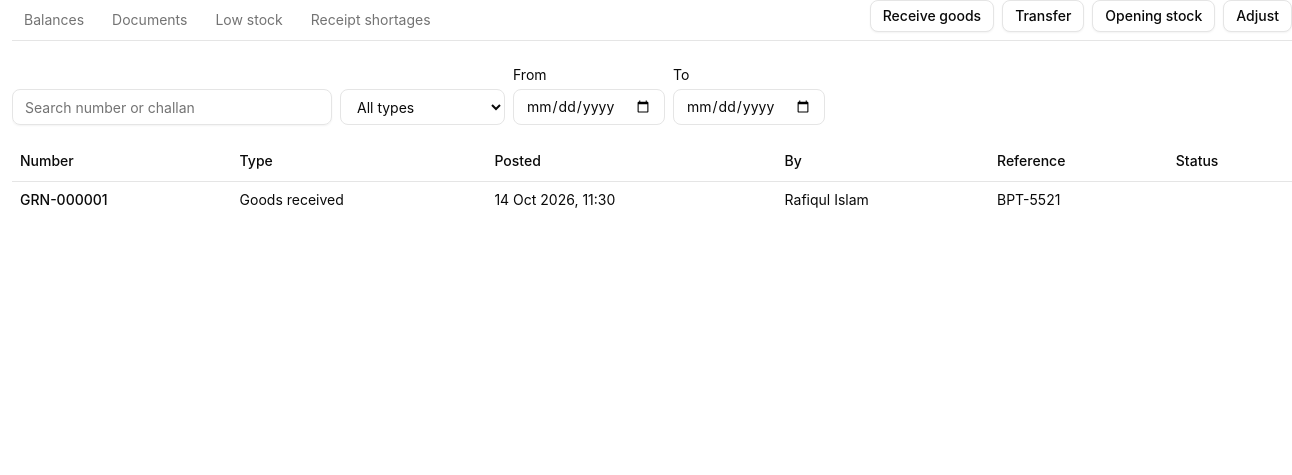
Test: documents › lists documents by type and date range and opens one
Select "Goods received" in the dropdown named "Type". click: (422, 107)
box: x1=340 y1=89 x2=505 y2=125
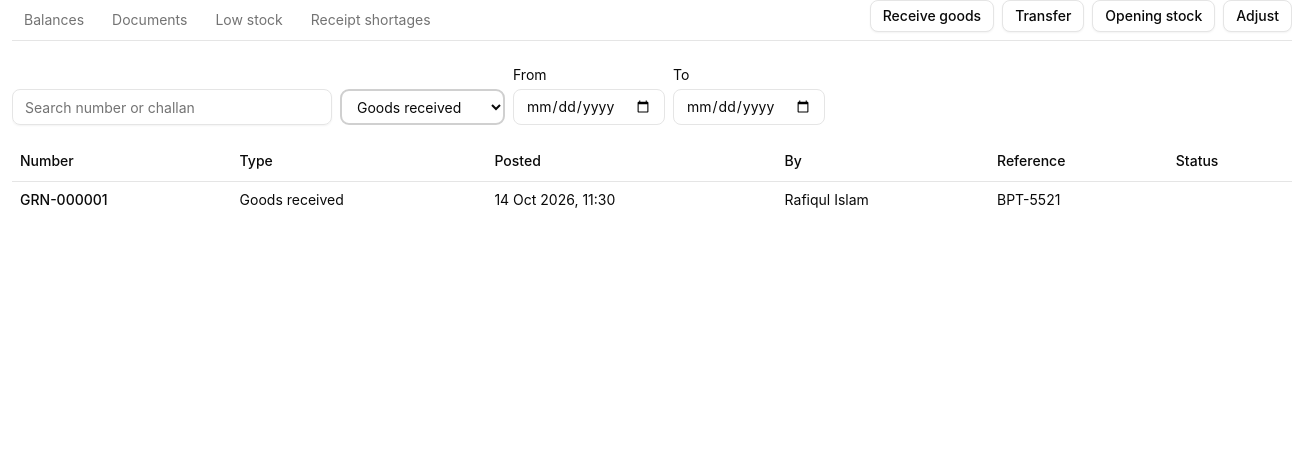
Type "2026-10-01" into the date field labelled "From". click: (589, 107)
box: x1=513 y1=89 x2=665 y2=125
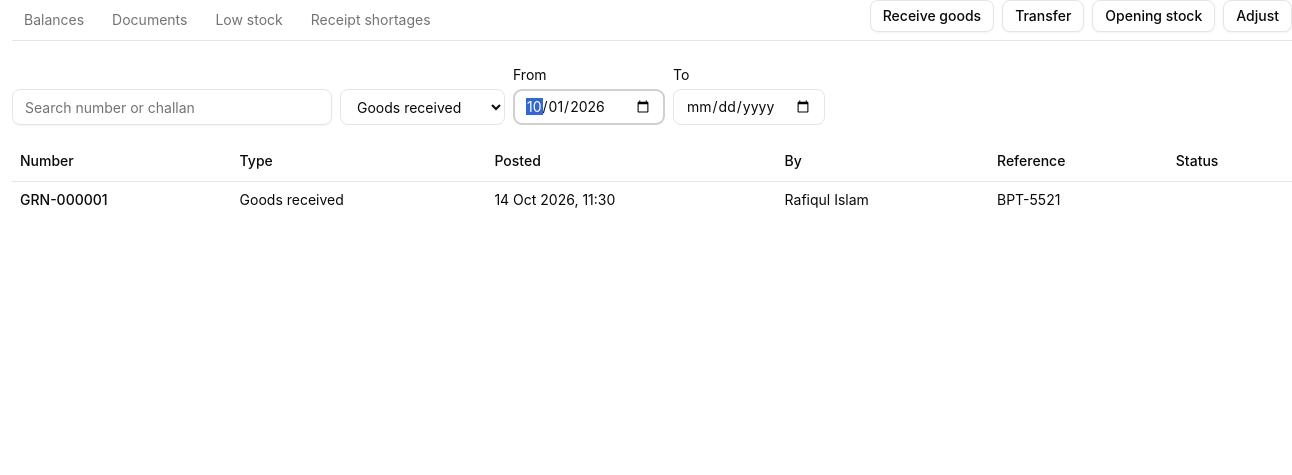
Check: the text "Rafiqul Islam" is shown, box x1=777 y1=181 x2=989 y2=218
Click the link "GRN-000001". click: (64, 199)
box: x1=20 y1=190 x2=108 y2=208
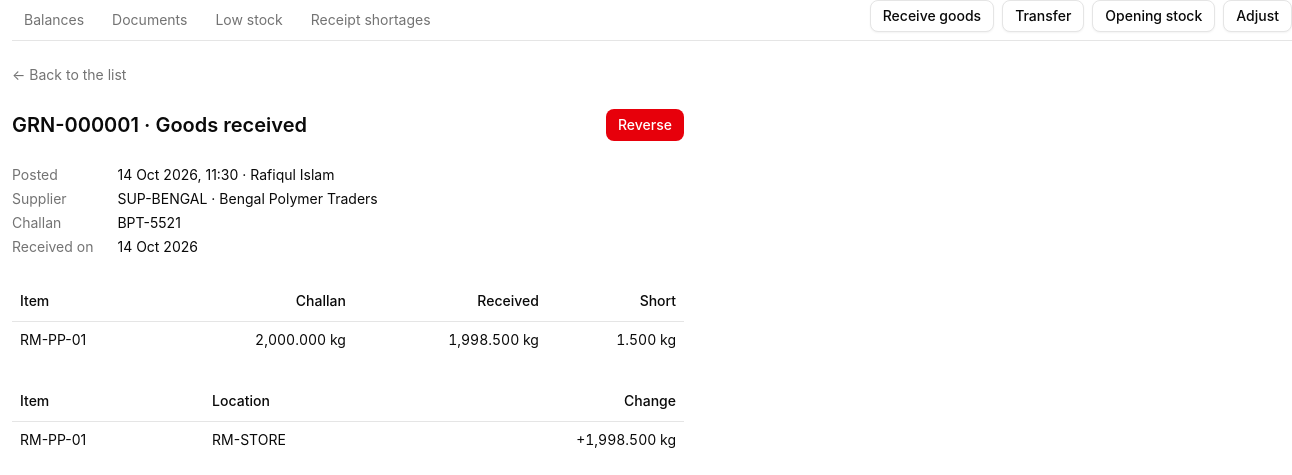
Check: the heading "GRN-000001 · Goods received" is shown, box x1=12 y1=111 x2=307 y2=139
Check: the text "SUP-BENGAL · Bengal Polymer Traders" is shown, box x1=118 y1=190 x2=378 y2=207
Check: the text "+1,998.500 kg" is shown, box x1=414 y1=422 x2=684 y2=458
